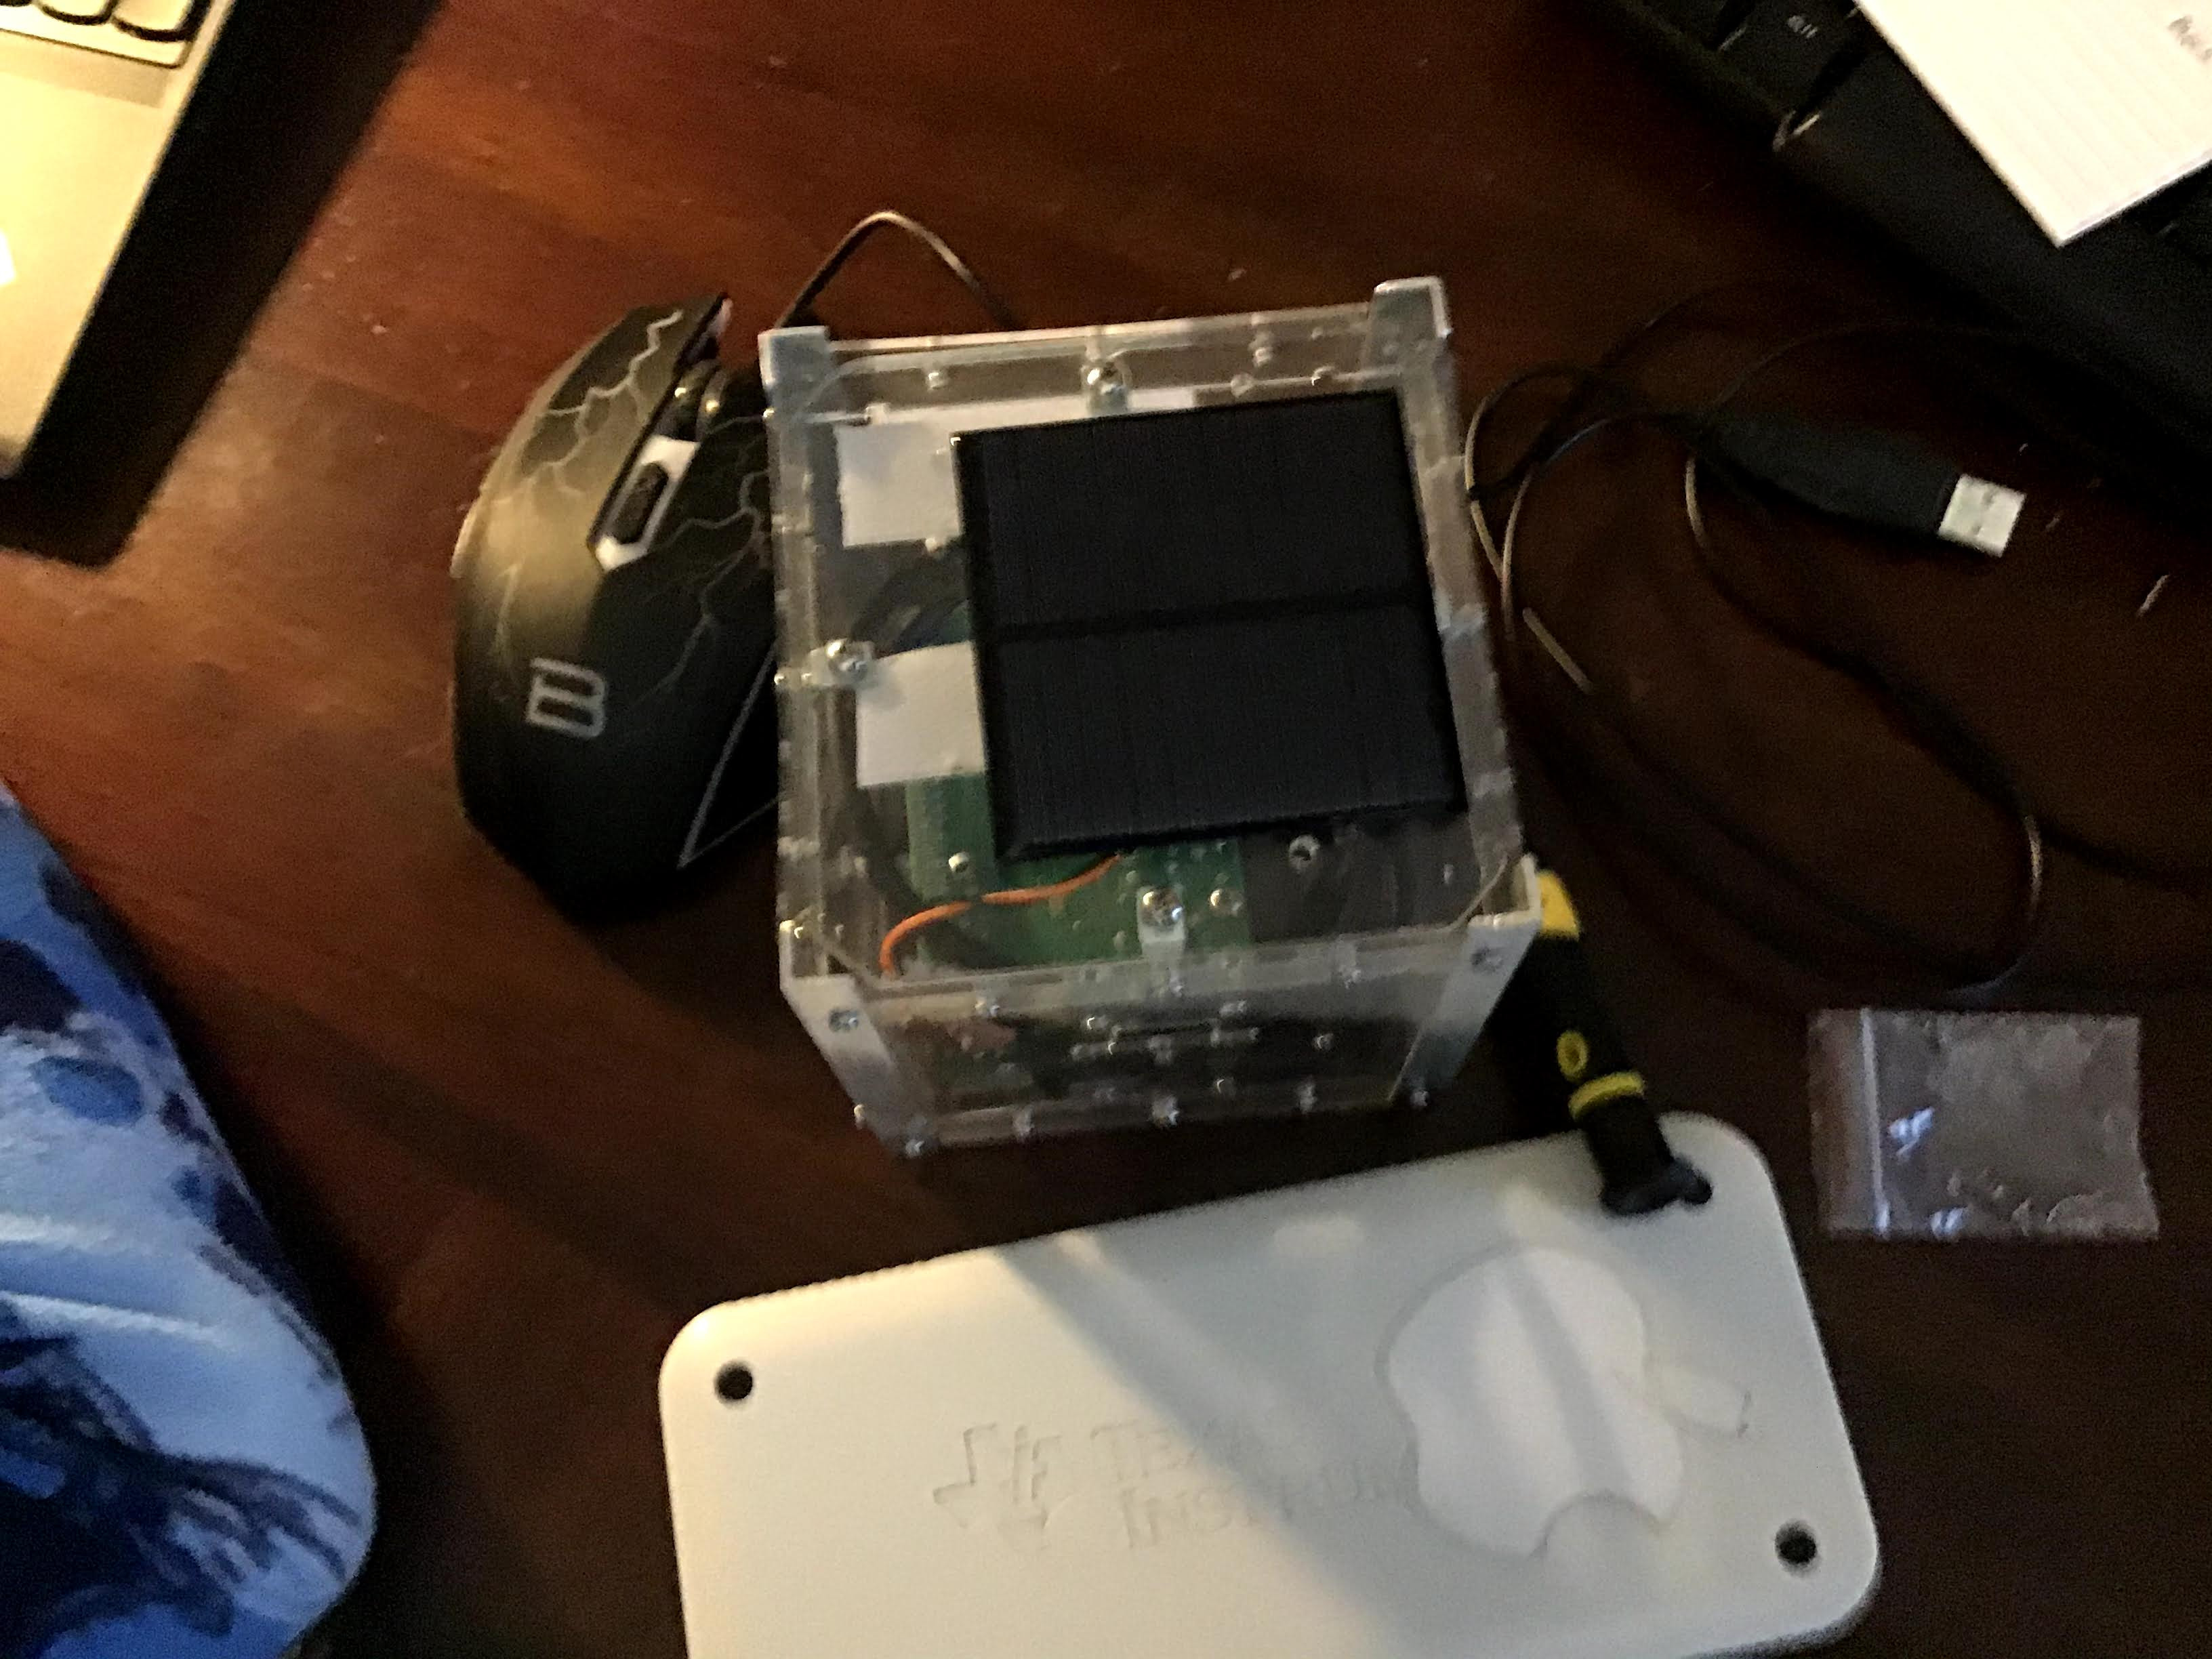Space-debris-cubesat: (759, 335, 1543, 1145)
